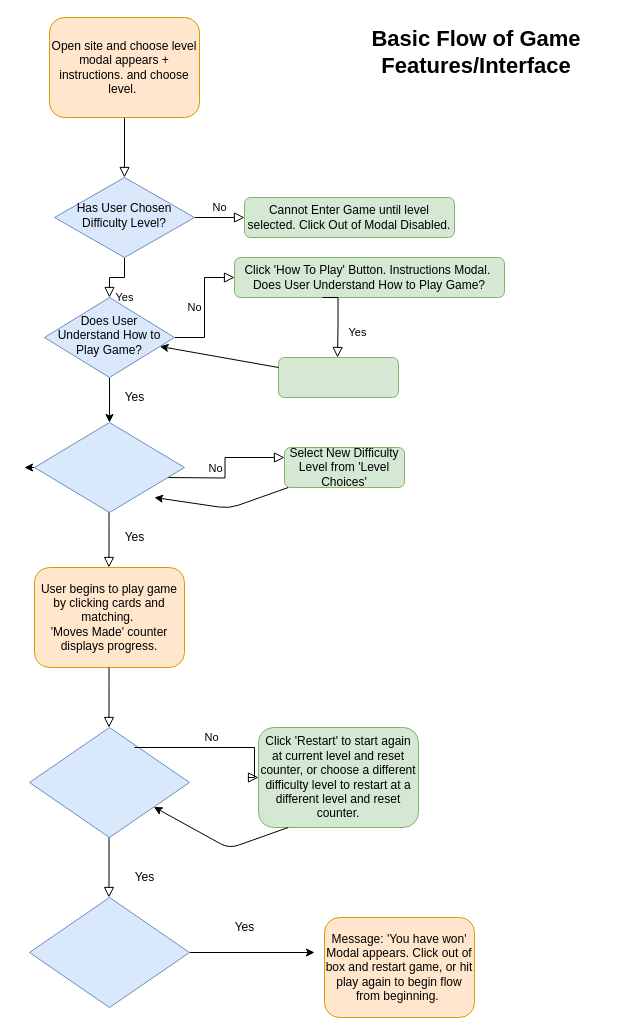
This 632x1035 diagram has some shape labels left out. Each missing label, with the centre of its shape:
"'Click Return To Game." belongs at point (338, 377).
"Does User want to continue current game?" belongs at point (109, 782).
"Does User Want to stay on Existing Difficulty Level?" belongs at point (109, 467).
"Has User Matched all of the cards?" belongs at point (109, 952).
